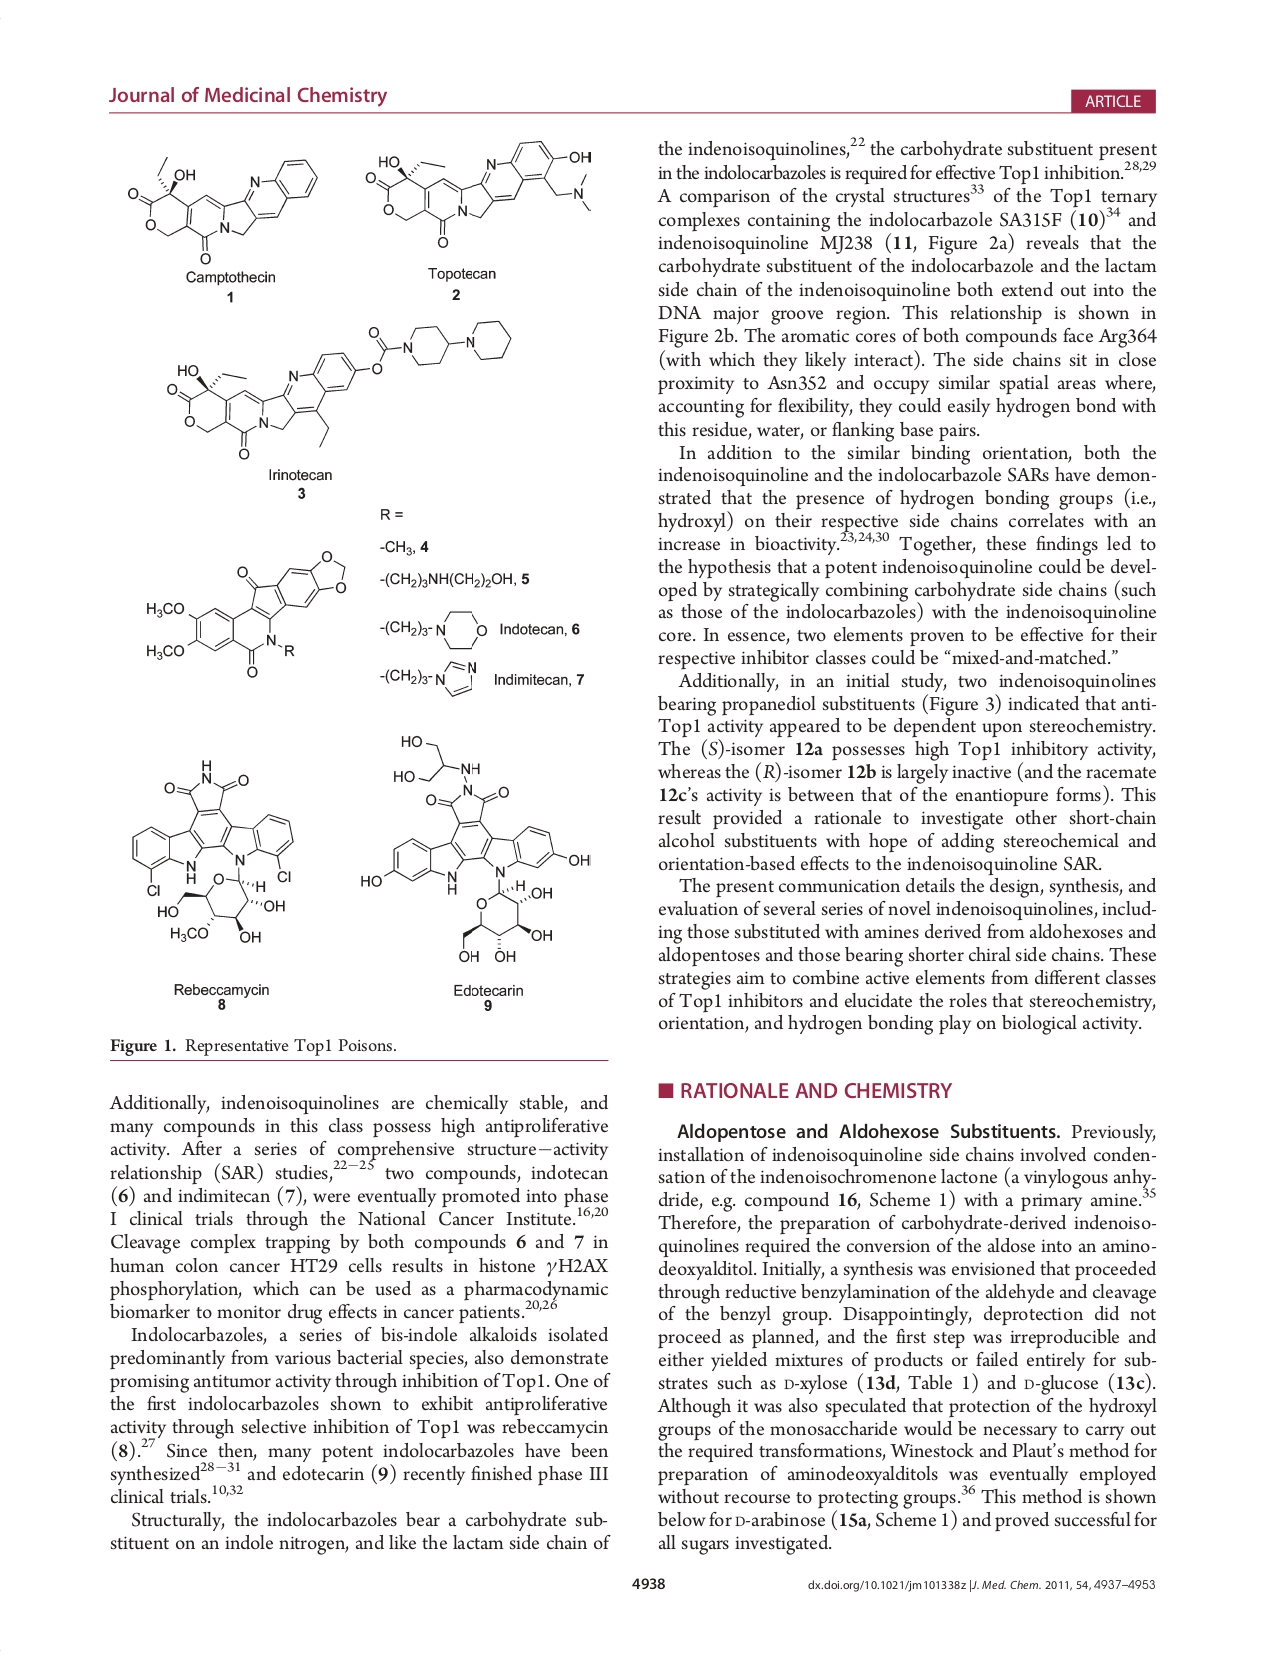exist_molecular: (356, 725, 594, 967), (161, 318, 513, 461), (125, 747, 307, 950), (144, 547, 347, 681), (359, 138, 598, 250), (121, 150, 322, 269), (380, 602, 489, 656), (378, 656, 481, 698)
